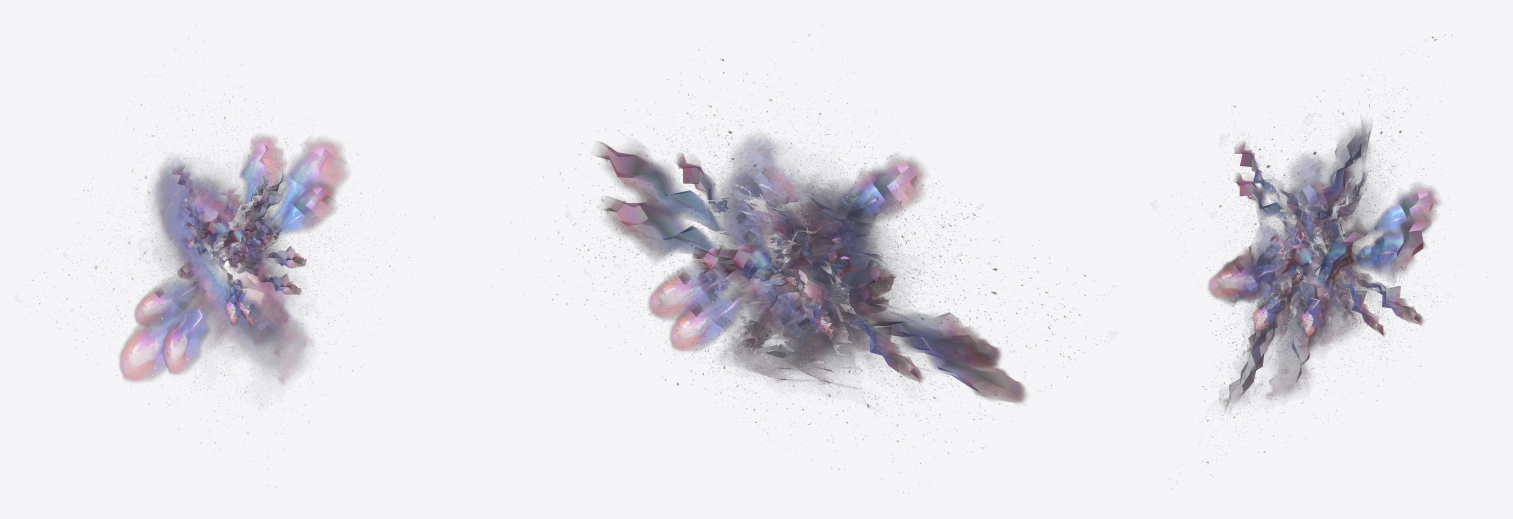
The model's file is quasars.glb.
3 views of the same model, side by side, from view 1: azimuth 30°, elevation 25°; view 2: azimuth 150°, elevation 25°; view 3: azimuth 270°, elevation 25° (orthographic). The views are drawn at different scales.
Parts seen in each view (by area): view 1: Plane_3Plane_3, Plane_2Plane_2, Plane_4Plane_4, Plane_10Plane_10, Plane_13Plane_13, Plane_12Plane_12, Plane_0Plane_0, Plane_1Plane_1, Plane_9Plane_9; view 2: Plane_2Plane_2, Plane_3Plane_3, Plane_10Plane_10, Plane_9Plane_9, Plane_0Plane_0, Plane_4Plane_4, Plane_1Plane_1, Plane_12Plane_12, Plane_5Plane_5; view 3: Plane_2Plane_2, Plane_0Plane_0, Plane_3Plane_3, Plane_9Plane_9, Plane_1Plane_1, Plane_10Plane_10, Plane_13Plane_13, Plane_12Plane_12, Plane_4Plane_4.
Part boxes in pixels (x1,y1,x2,y2): Plane_3Plane_3: (26, 23, 434, 487); Plane_2Plane_2: (91, 76, 348, 419); Plane_4Plane_4: (80, 96, 396, 378); Plane_10Plane_10: (150, 161, 320, 283); Plane_13Plane_13: (183, 209, 317, 294); Plane_12Plane_12: (185, 184, 339, 267); Plane_0Plane_0: (152, 135, 253, 327); Plane_1Plane_1: (185, 158, 246, 324); Plane_9Plane_9: (209, 142, 286, 273); Plane_2Plane_2: (535, 94, 1085, 468); Plane_3Plane_3: (543, 49, 1096, 479); Plane_10Plane_10: (567, 25, 995, 444); Plane_9Plane_9: (594, 74, 941, 408); Plane_0Plane_0: (644, 143, 977, 403); Plane_4Plane_4: (669, 105, 933, 416); Plane_1Plane_1: (651, 179, 947, 384); Plane_12Plane_12: (692, 134, 859, 372); Plane_5Plane_5: (749, 197, 837, 344); Plane_2Plane_2: (1205, 35, 1451, 475); Plane_0Plane_0: (1167, 68, 1487, 381); Plane_3Plane_3: (1172, 34, 1445, 488); Plane_9Plane_9: (1235, 139, 1433, 339); Plane_1Plane_1: (1224, 137, 1399, 378); Plane_10Plane_10: (1234, 106, 1391, 359); Plane_13Plane_13: (1212, 196, 1309, 357); Plane_12Plane_12: (1264, 154, 1356, 359); Plane_4Plane_4: (1220, 117, 1398, 390).
Bounding box in the file's own units: 7910 × 7005 × 4418.
1 material, 1 textured.
